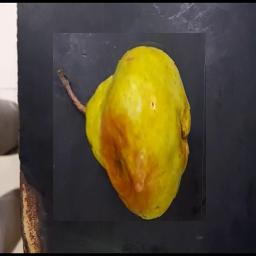Pear Rotten: (54, 34, 207, 222)
